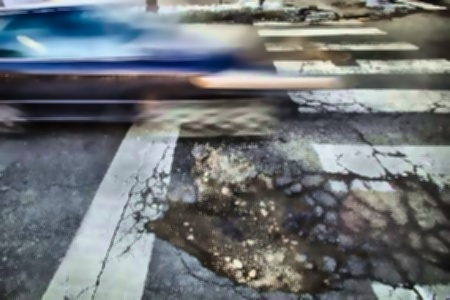pothole: (151, 177, 341, 296)
